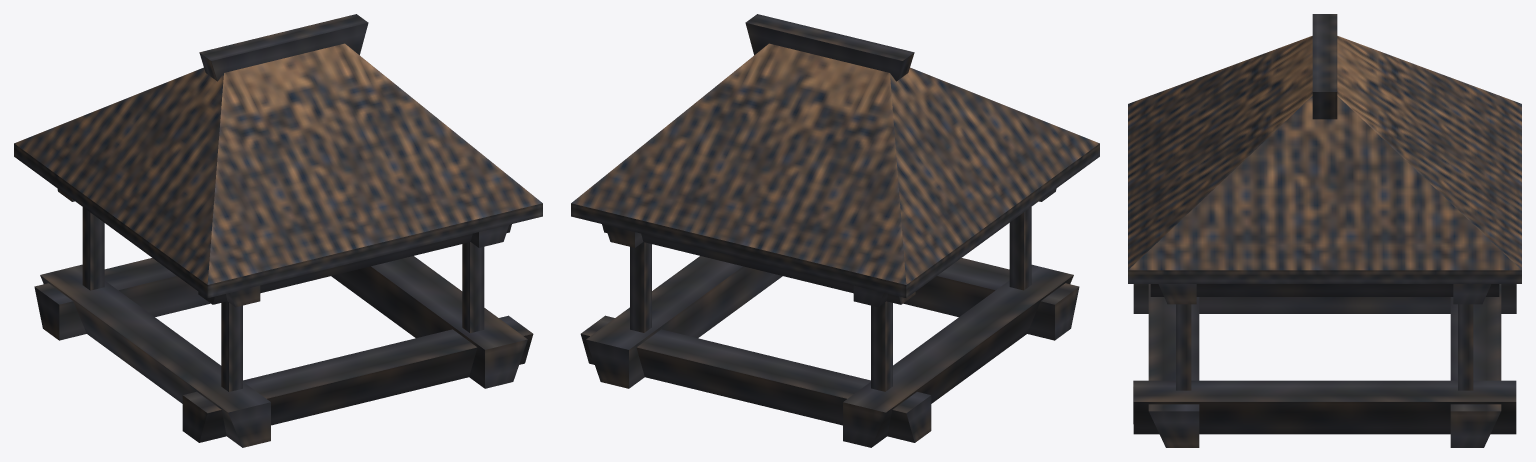
Rendered from b_qy_xiaochenglou01_lod2.FBX.
The picture shows the model from 3 angles, left to right: view 1: azimuth 30°, elevation 25°; view 2: azimuth 150°, elevation 25°; view 3: azimuth 270°, elevation 25°; orthographic projection.
Visible parts, largest first — view 1: b_qy_xiaochenglou01_lod2; view 2: b_qy_xiaochenglou01_lod2; view 3: b_qy_xiaochenglou01_lod2.
Part boxes in pixels (x1=…): b_qy_xiaochenglou01_lod2: x1=14, y1=14, x2=542, y2=447; b_qy_xiaochenglou01_lod2: x1=571, y1=14, x2=1099, y2=447; b_qy_xiaochenglou01_lod2: x1=1128, y1=14, x2=1521, y2=447.
Size of the model in its own units: 6.23 by 5.46 by 6.21.
1 material, 1 textured.
